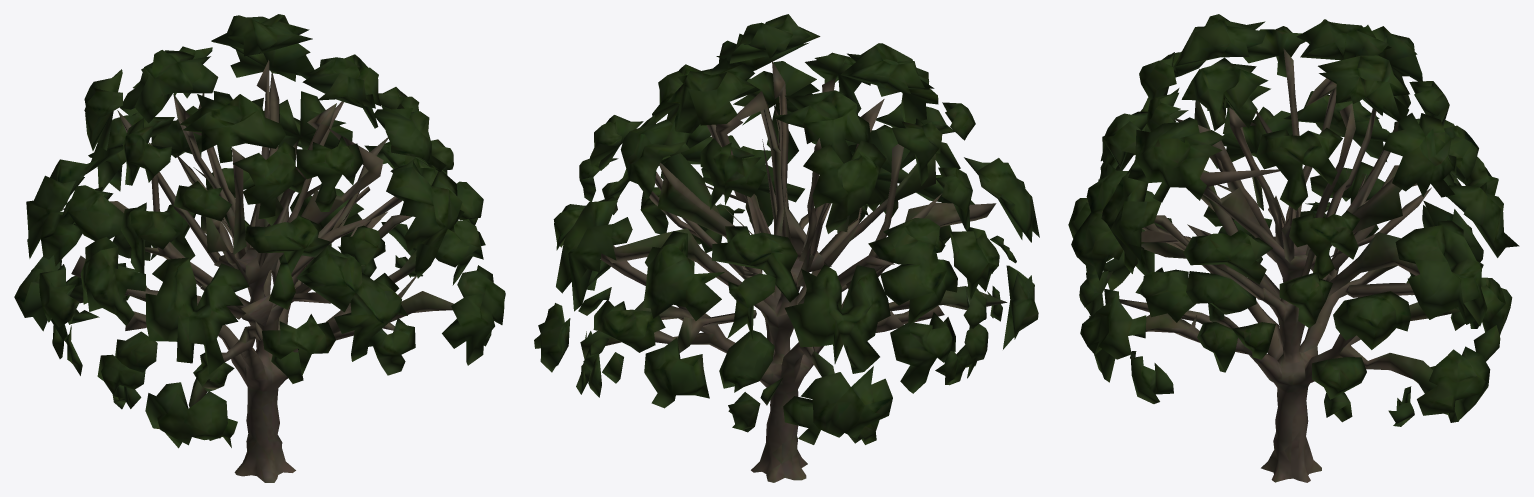
The model's file is javaporcos_mint_mangueira.glb.
3 views of the same model, side by side, from view 1: azimuth 30°, elevation 25°; view 2: azimuth 150°, elevation 25°; view 3: azimuth 270°, elevation 25° (orthographic).
Visible parts, largest first — view 1: Mangueira; view 2: Mangueira; view 3: Mangueira.
Boxes of the visible parts, left/top/right/bottom form: Mangueira: left=14, top=14, right=505, bottom=482; Mangueira: left=534, top=14, right=1039, bottom=482; Mangueira: left=1068, top=14, right=1519, bottom=482.
Size of the model in its own units: 6.77 by 7 by 6.73.
1 material, 1 textured.
